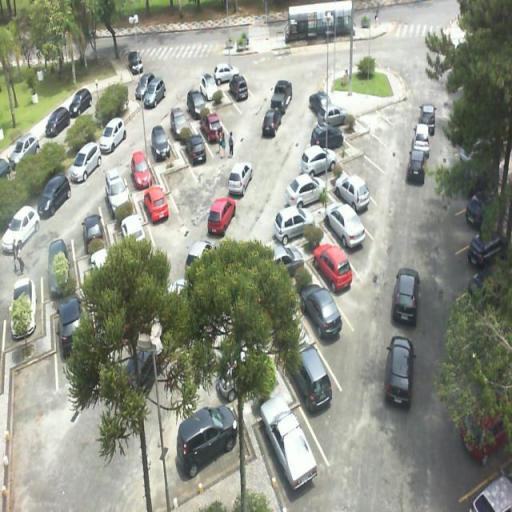Slot-empty: (7, 354, 73, 434), (159, 163, 210, 222), (337, 150, 400, 196), (350, 102, 404, 148), (344, 125, 398, 171), (209, 96, 250, 128)
Slot-occupied: (160, 398, 256, 500), (246, 390, 336, 498), (274, 335, 350, 415), (286, 274, 358, 346), (301, 240, 363, 307), (312, 198, 372, 252)
